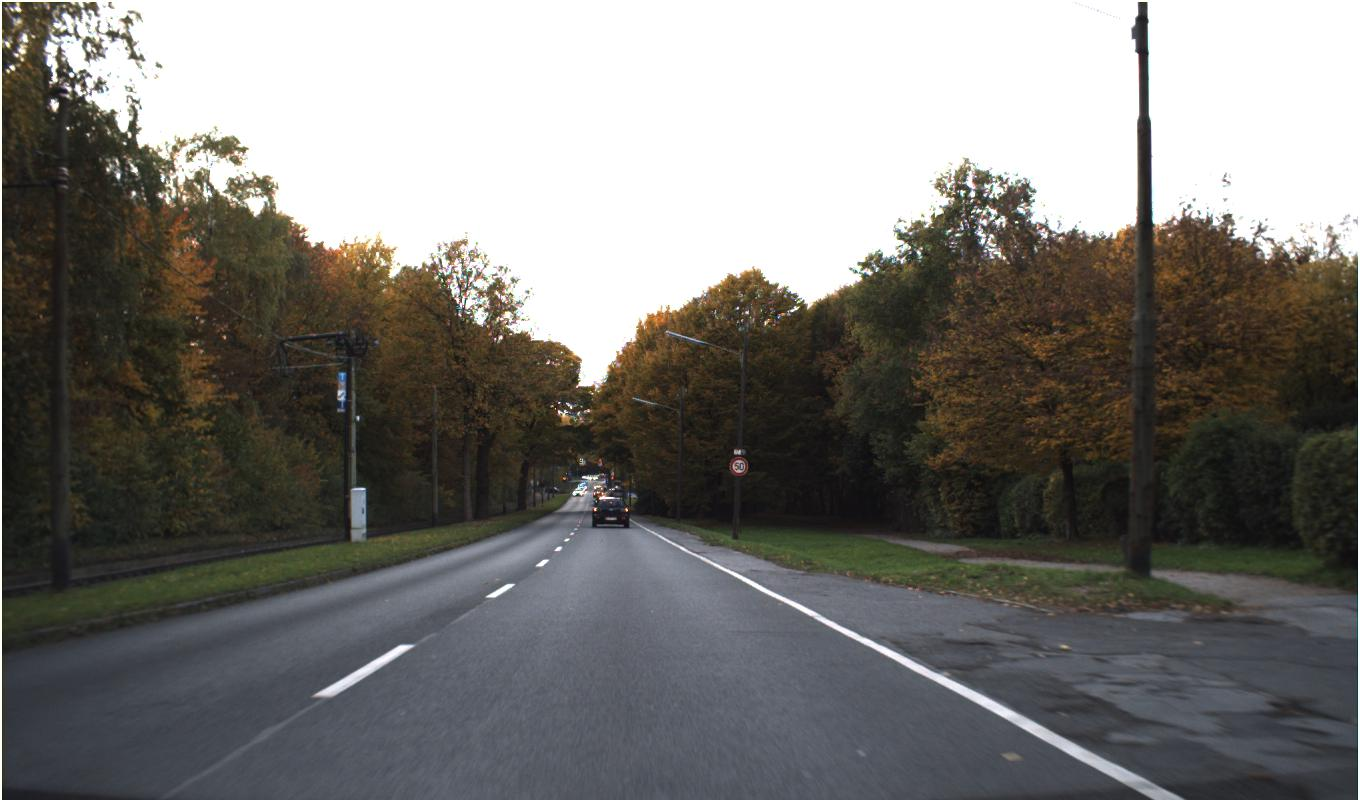prohibitory: (728, 456, 748, 476)
